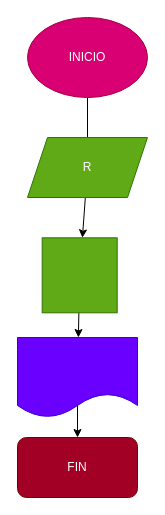
Some shapes in this 165 by 515 pixel diagram are drawn without their labels. The shapes that lost their labels are listed below. From the top down, each one's centre as x and y in pixels, then its label:
At pixel 79 275: "A.PI*R2 P:2*PI*R".
At pixel 77 377: "A,P".
